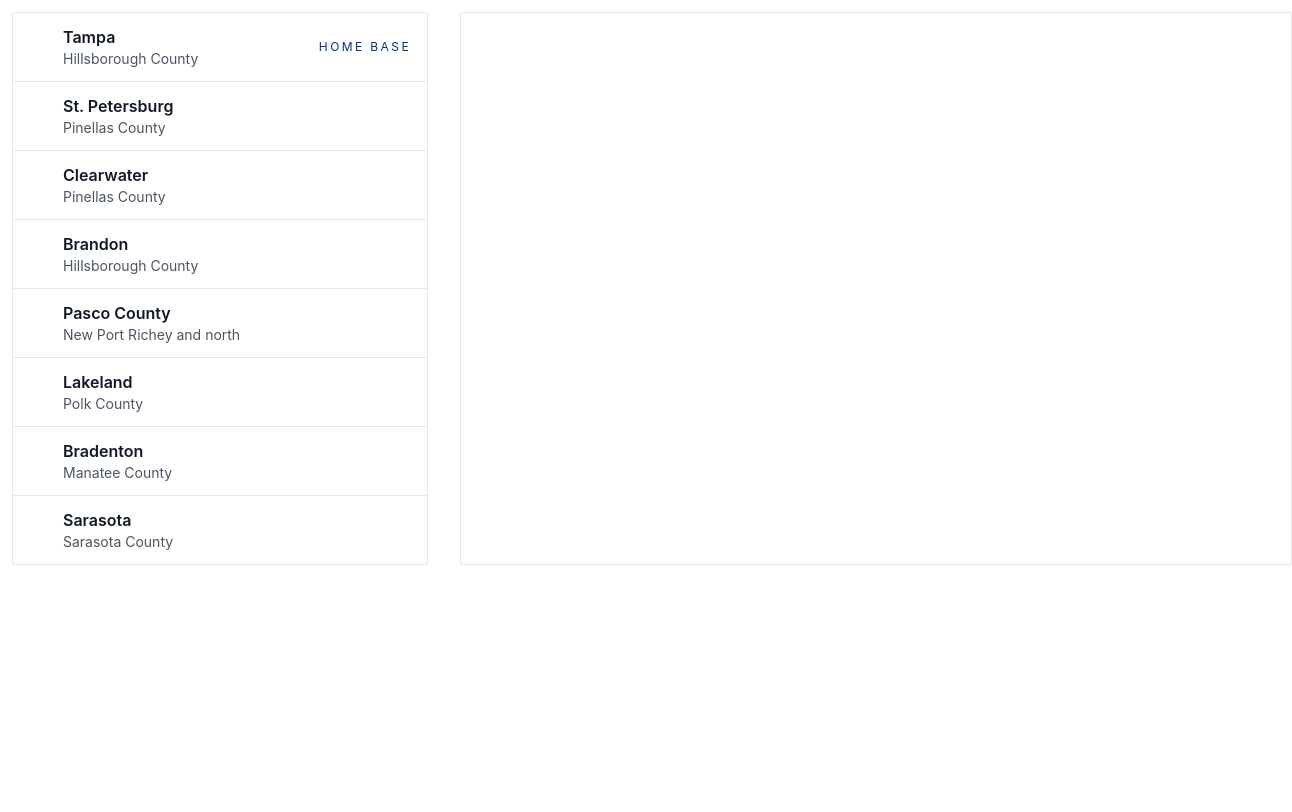
Test: ServiceAreaMap › offers a way back to the overview once an area is picked
Expected: the text "Show all areas" is not shown
Click the button "Clearwater Pinellas County".
click(106, 175)  # box [13,151,427,219]
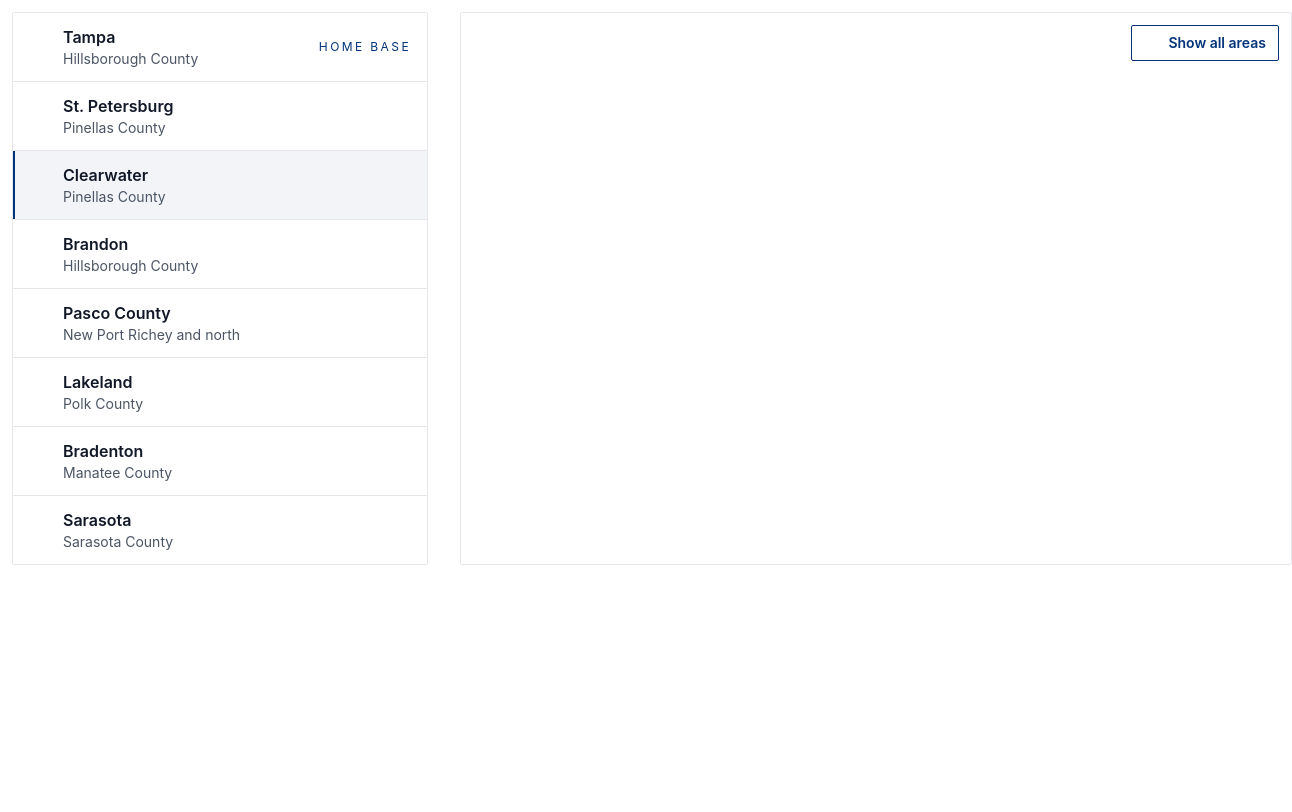
Click the button "Show all areas".
click(1205, 43)  # box [1131,25,1279,61]
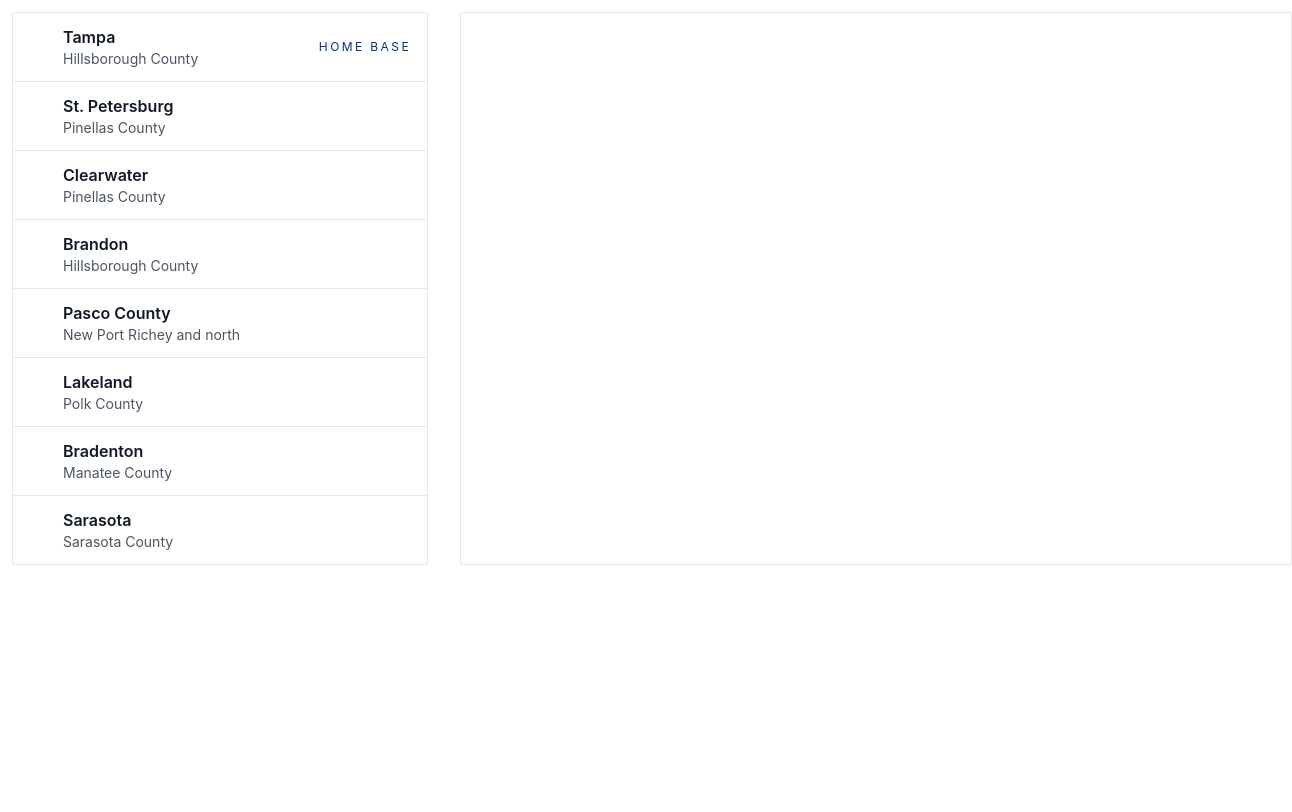
Expected: the text "Show all areas" is gone
